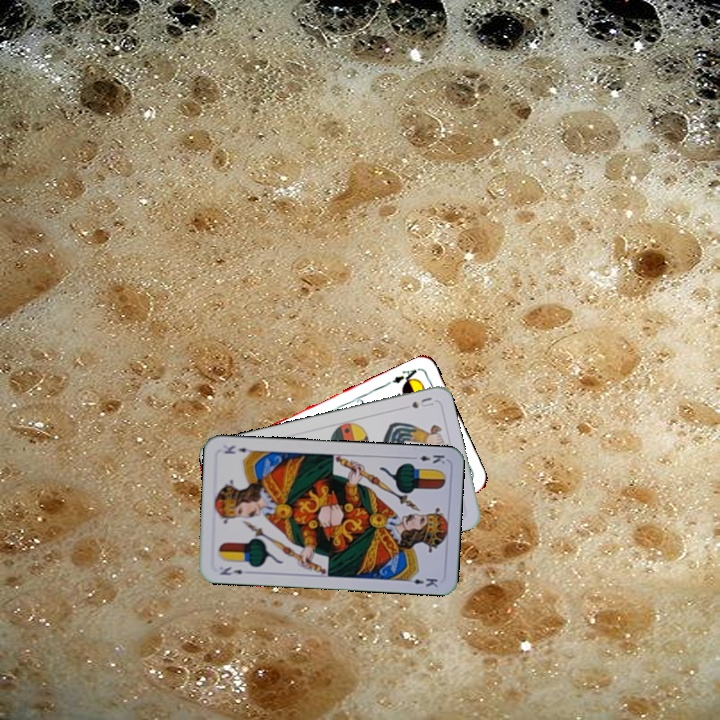EA: (388, 364, 422, 388)
EK: (407, 450, 447, 467), (216, 563, 244, 578)
SU: (408, 393, 437, 411)
